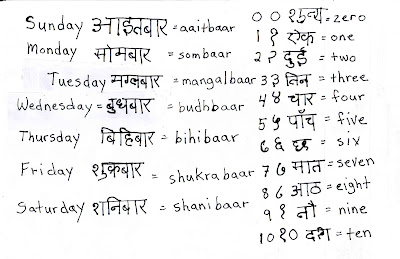text: (90, 13, 170, 40), (12, 95, 93, 119), (14, 198, 86, 224), (22, 13, 84, 41), (168, 165, 253, 184), (45, 69, 108, 94), (180, 69, 258, 89), (16, 127, 81, 150), (99, 124, 156, 150), (171, 196, 250, 214), (91, 194, 149, 218), (174, 126, 240, 146), (24, 40, 78, 63), (90, 160, 145, 182), (93, 43, 153, 63), (18, 161, 74, 182), (176, 97, 244, 113), (104, 95, 155, 115), (109, 72, 164, 90), (178, 17, 237, 33), (283, 108, 318, 132), (177, 45, 232, 60), (257, 226, 300, 245), (286, 6, 324, 26), (330, 68, 371, 86), (336, 175, 374, 194), (289, 179, 322, 198), (281, 46, 308, 69), (336, 110, 369, 127), (334, 155, 379, 167), (302, 227, 332, 245), (290, 159, 325, 174), (286, 28, 315, 46), (258, 184, 285, 203), (330, 89, 366, 103), (254, 90, 282, 108), (256, 113, 280, 134), (282, 71, 312, 87), (260, 161, 288, 178), (254, 28, 279, 47), (331, 12, 367, 25), (262, 203, 288, 221), (328, 49, 358, 64), (294, 201, 319, 219), (345, 227, 374, 242), (335, 131, 362, 147), (260, 136, 287, 152), (287, 92, 316, 106), (289, 137, 314, 153), (336, 204, 368, 216), (251, 51, 277, 65), (250, 11, 282, 22), (259, 72, 282, 87), (329, 34, 356, 44)
